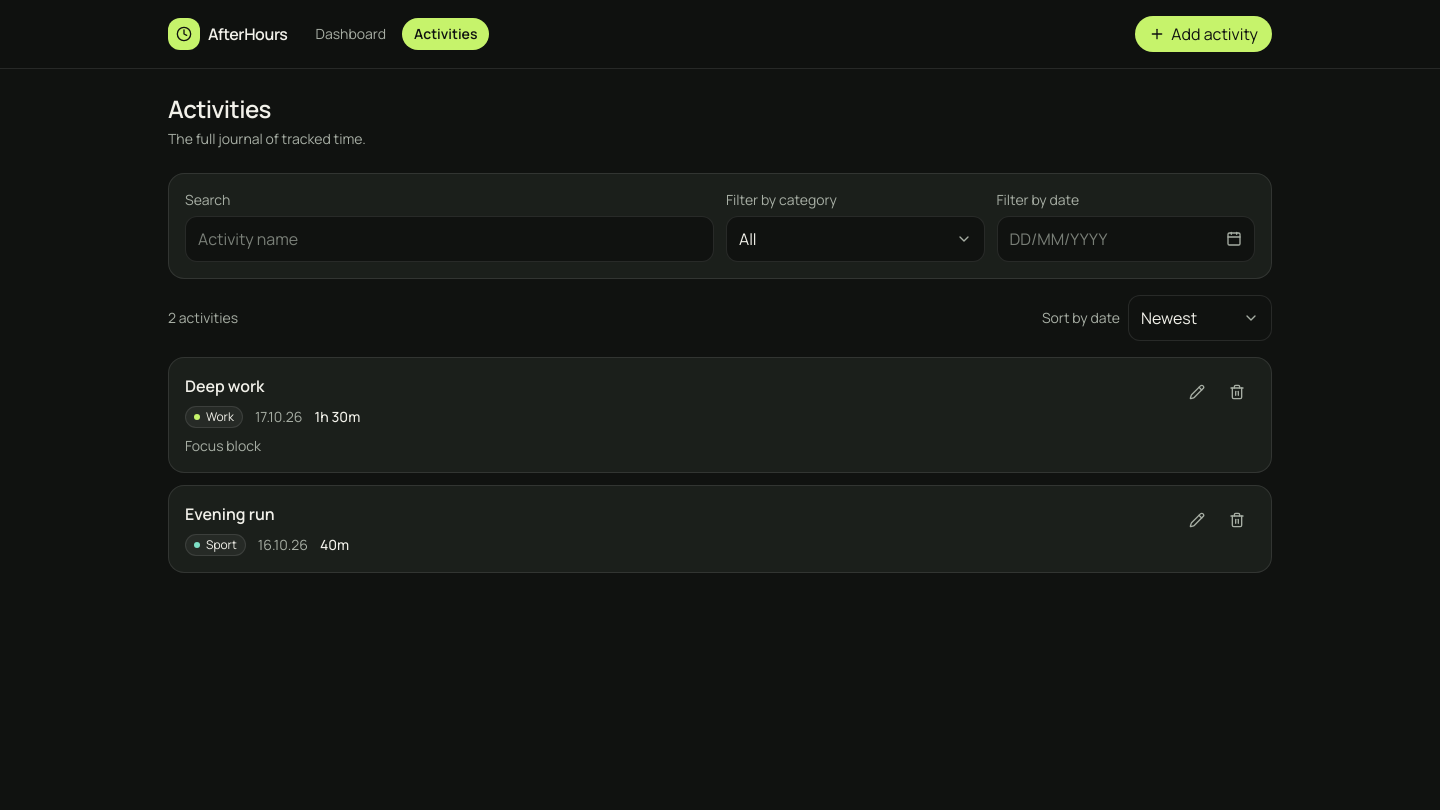
Test case: AfterHours › sorts activities by date
Expected: the headings read "Deep work", "Evening run", in this order, top-left (185, 375), bottom-right (264, 397); top-left (185, 503), bottom-right (275, 525)
Click the dropdown named "Sort by date" at (1200, 318), box top-left (1128, 295), bottom-right (1272, 341)
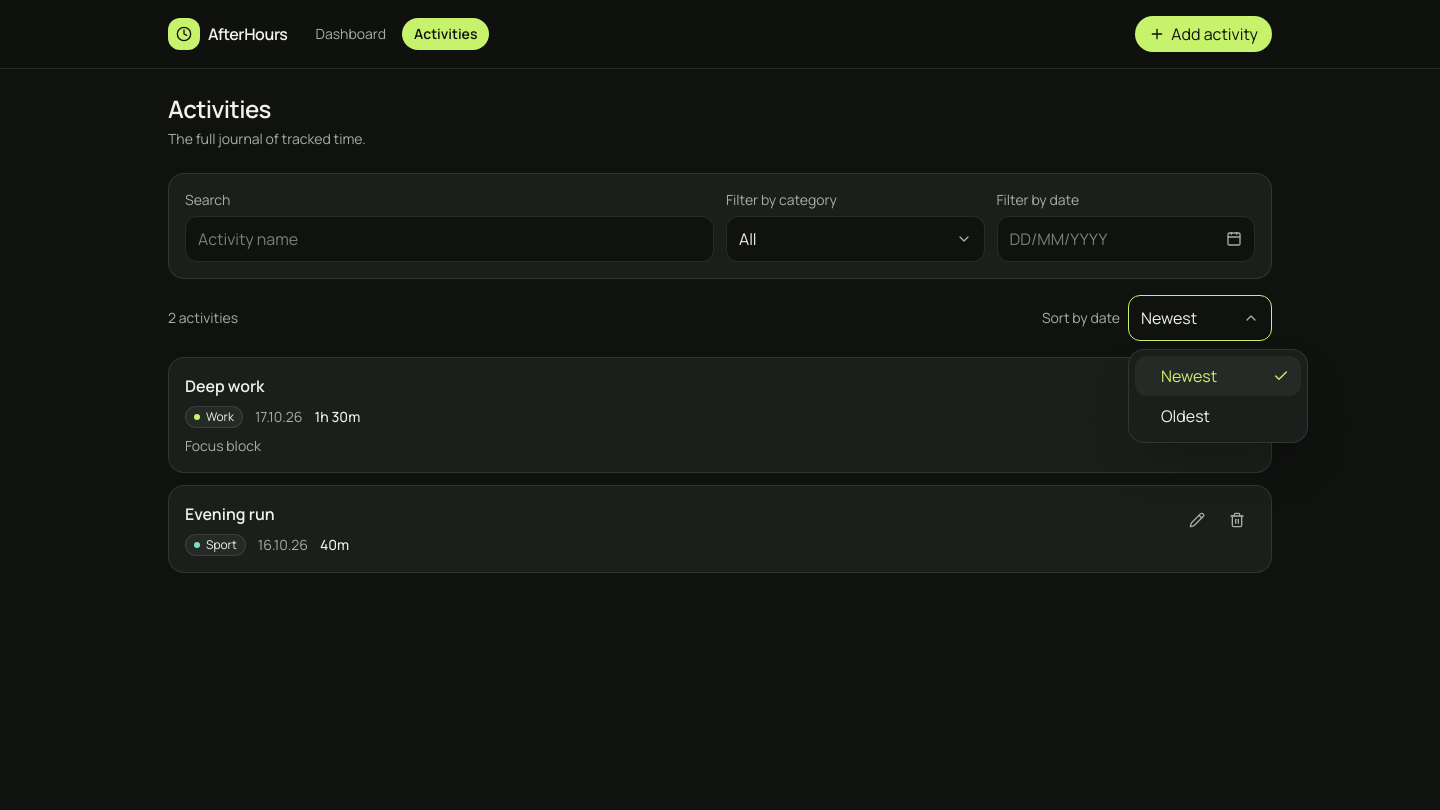
Click the option "Oldest" at (1218, 416), box top-left (1135, 396), bottom-right (1301, 436)
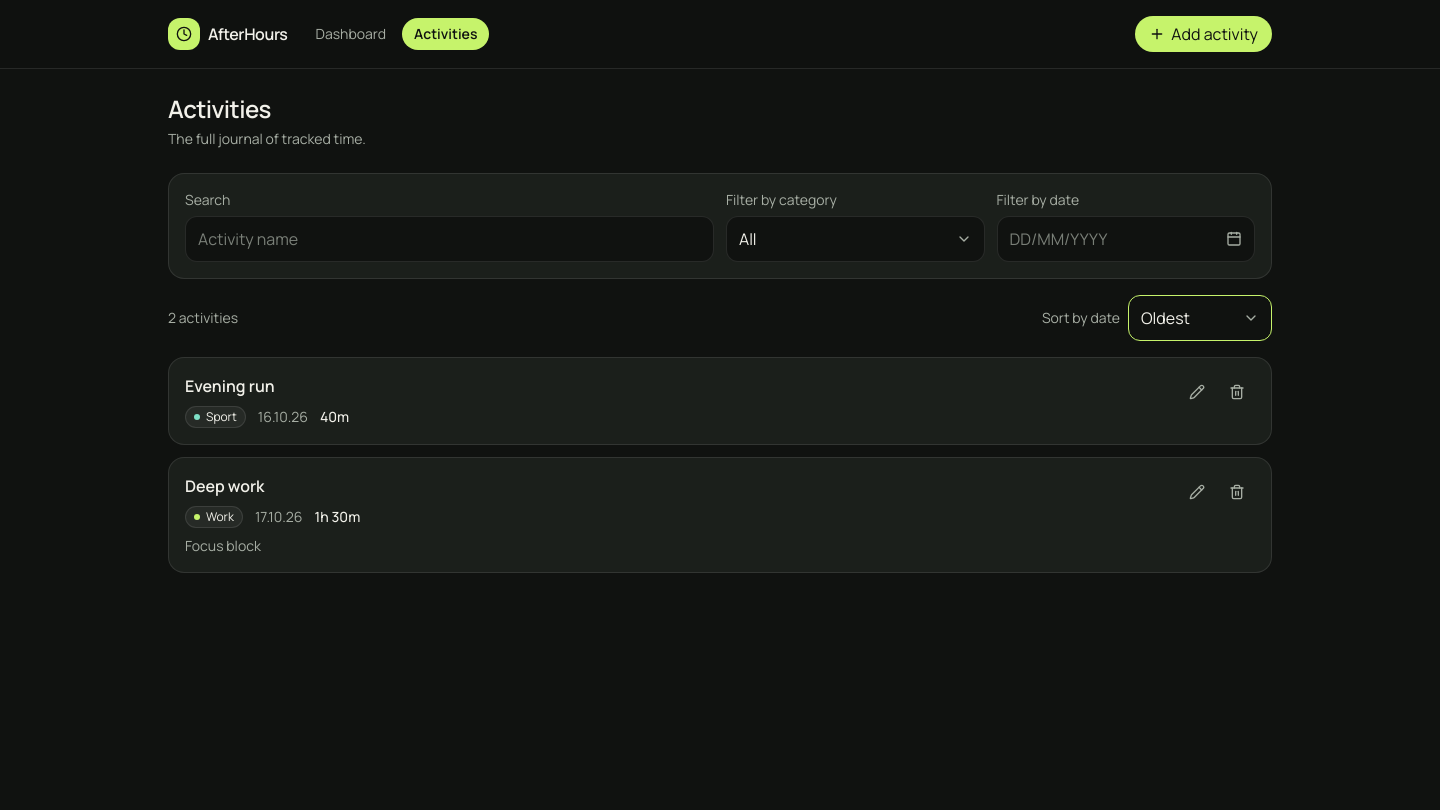
Result: the headings read "Evening run", "Deep work", in this order at top-left (185, 375), bottom-right (275, 397); top-left (185, 475), bottom-right (264, 497)
